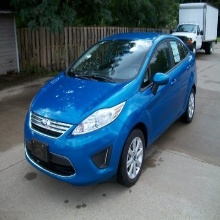no damage: (24, 31, 198, 188), (172, 4, 218, 52)
